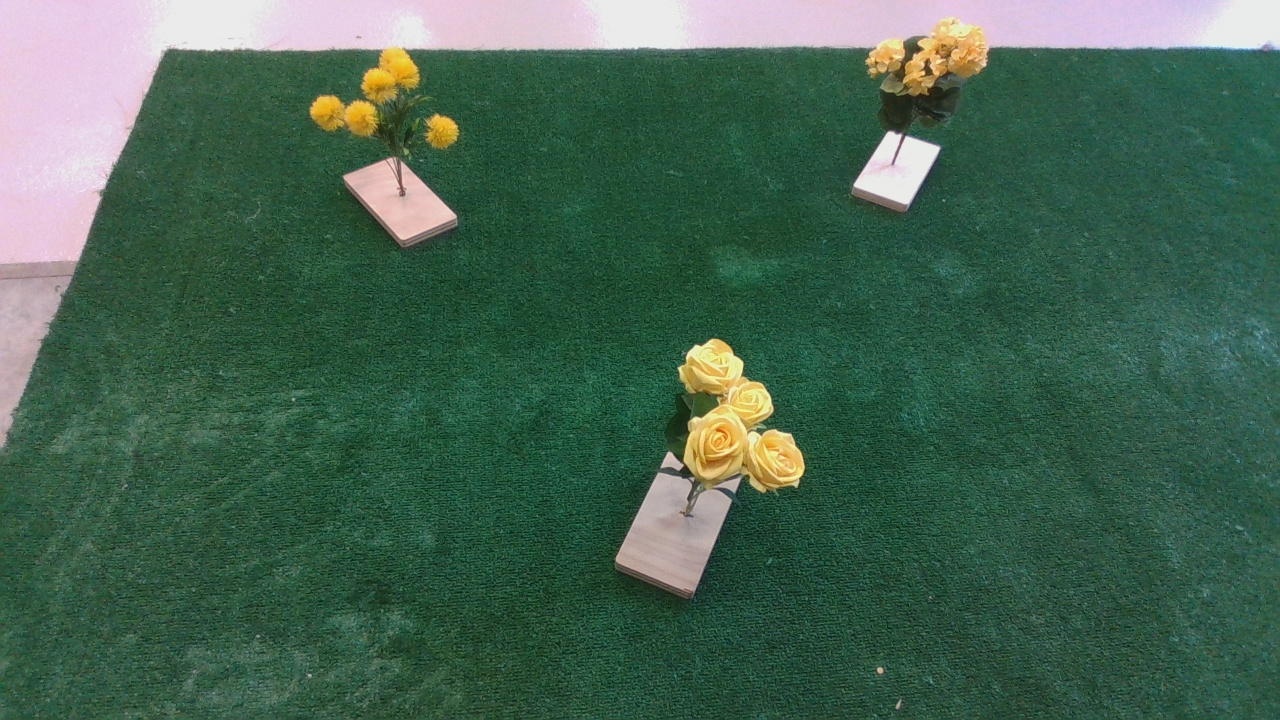dandelion: (300, 48, 486, 169)
geranium: (860, 17, 1012, 149)
rose: (666, 339, 831, 513)
